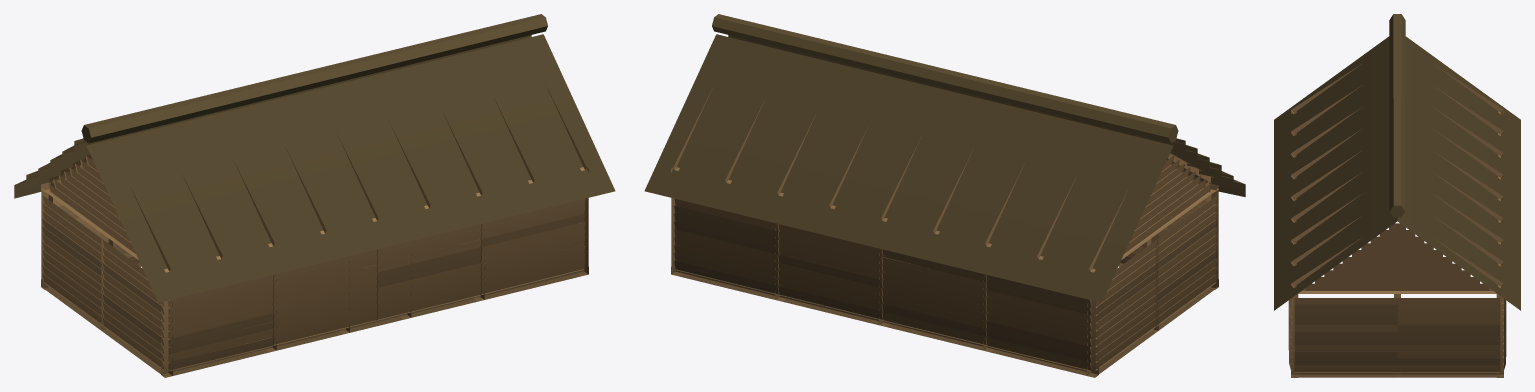
Rendered from storehouse.glb.
3 views of the same model, side by side, from view 1: azimuth 30°, elevation 25°; view 2: azimuth 150°, elevation 25°; view 3: azimuth 270°, elevation 25° (orthographic). The views are drawn at different scales.
Visible parts, largest first — view 1: storehouse_roof, storehouse_walls, storehouse_frame; view 2: storehouse_roof, storehouse_walls, storehouse_frame; view 3: storehouse_roof, storehouse_walls, storehouse_frame.
Boxes of the visible parts, box(x1,y1,x2,y2) form: storehouse_roof: box(14, 14, 615, 302); storehouse_walls: box(41, 156, 586, 371); storehouse_frame: box(41, 84, 588, 377); storehouse_roof: box(644, 14, 1245, 302); storehouse_walls: box(673, 156, 1218, 371); storehouse_frame: box(671, 84, 1218, 377); storehouse_roof: box(1274, 14, 1520, 310); storehouse_walls: box(1288, 223, 1506, 372); storehouse_frame: box(1291, 64, 1503, 377).
Size of the model in its own units: 44 by 19.29 by 24.
